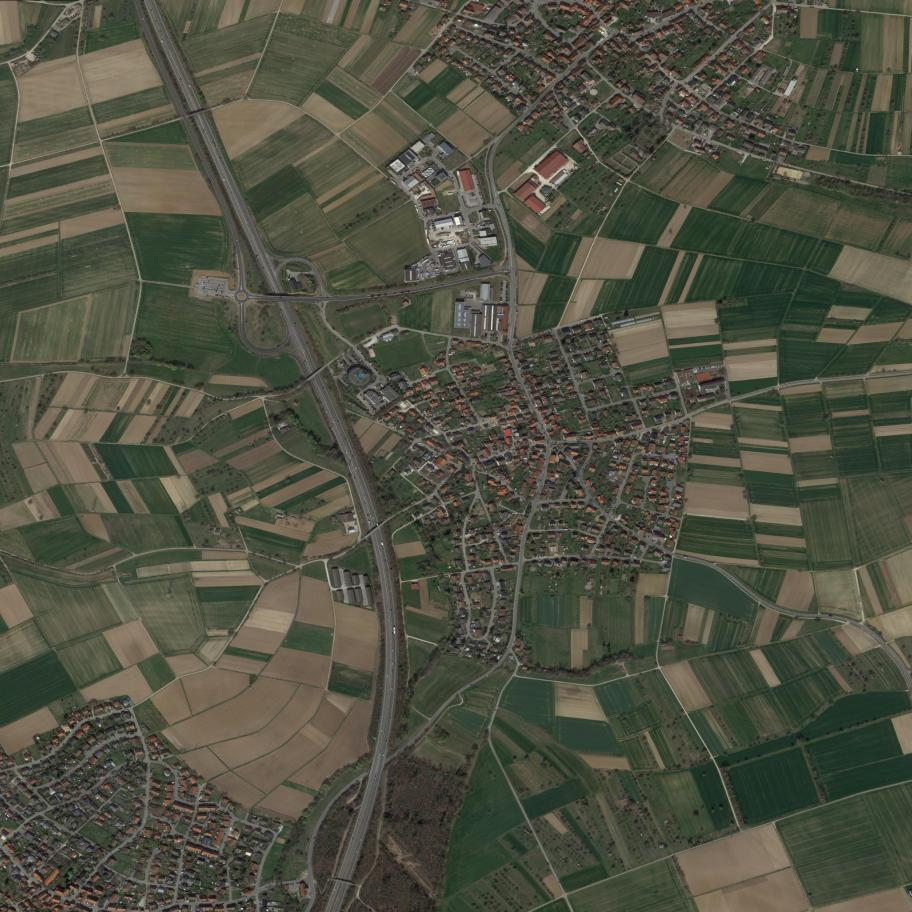storage-tank: (543, 186, 552, 194)
